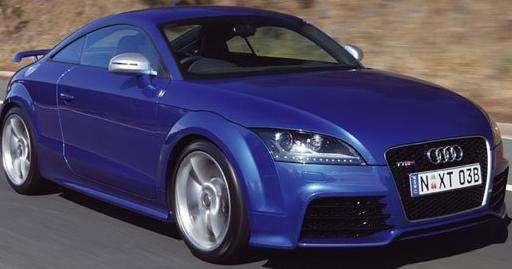front_view: (239, 107, 508, 251)
headlight: (245, 121, 366, 173)
side_glass: (48, 21, 158, 74)
